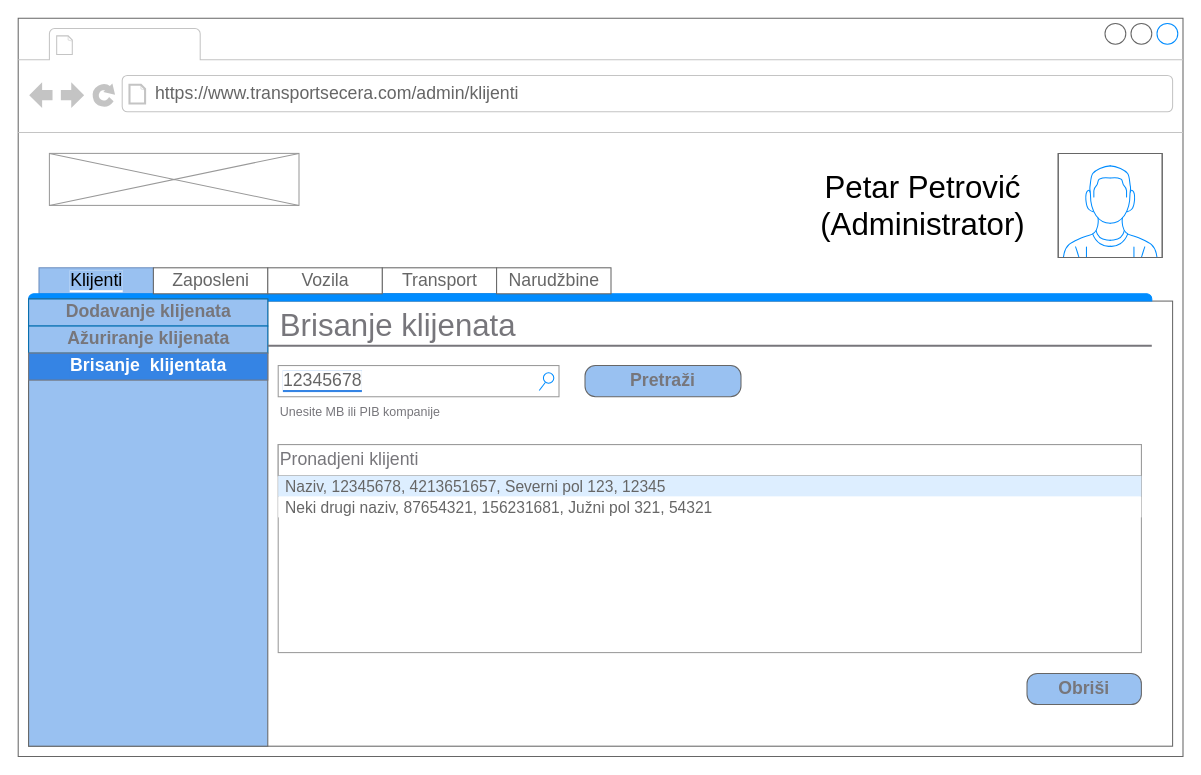
The diagram is 1201 pixels wide and 775 high, and some of its shapes have lost their labels. The shapes that lost their labels are listed below. From the top down, each one's box as (x1, y1, x2, y2) in pixels, then its label:
(80, 28, 195, 60): Transport šećera
(48, 152, 299, 205): LOGO
